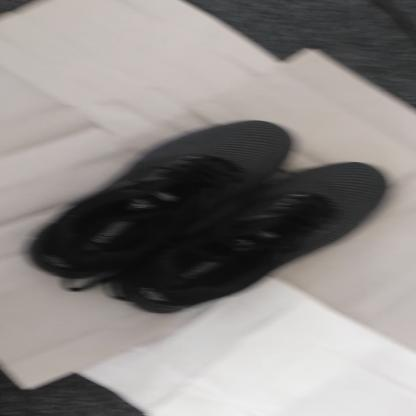safety-shoe: (18, 119, 387, 315)
